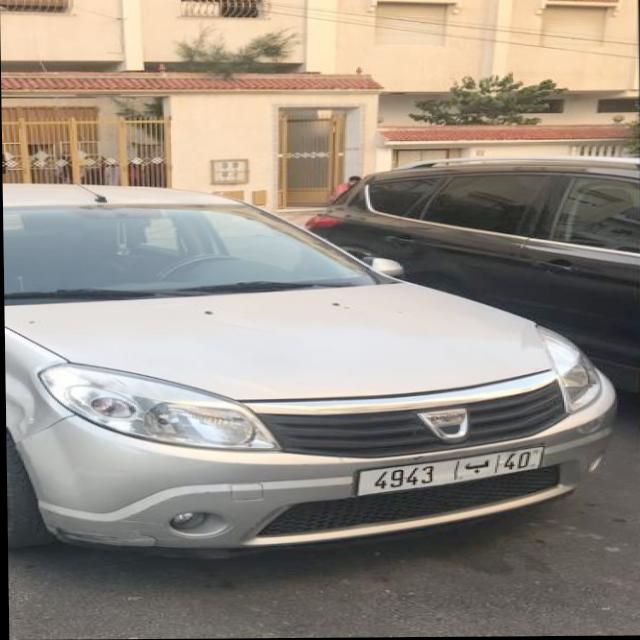License-Plate: (357, 449, 541, 495)
